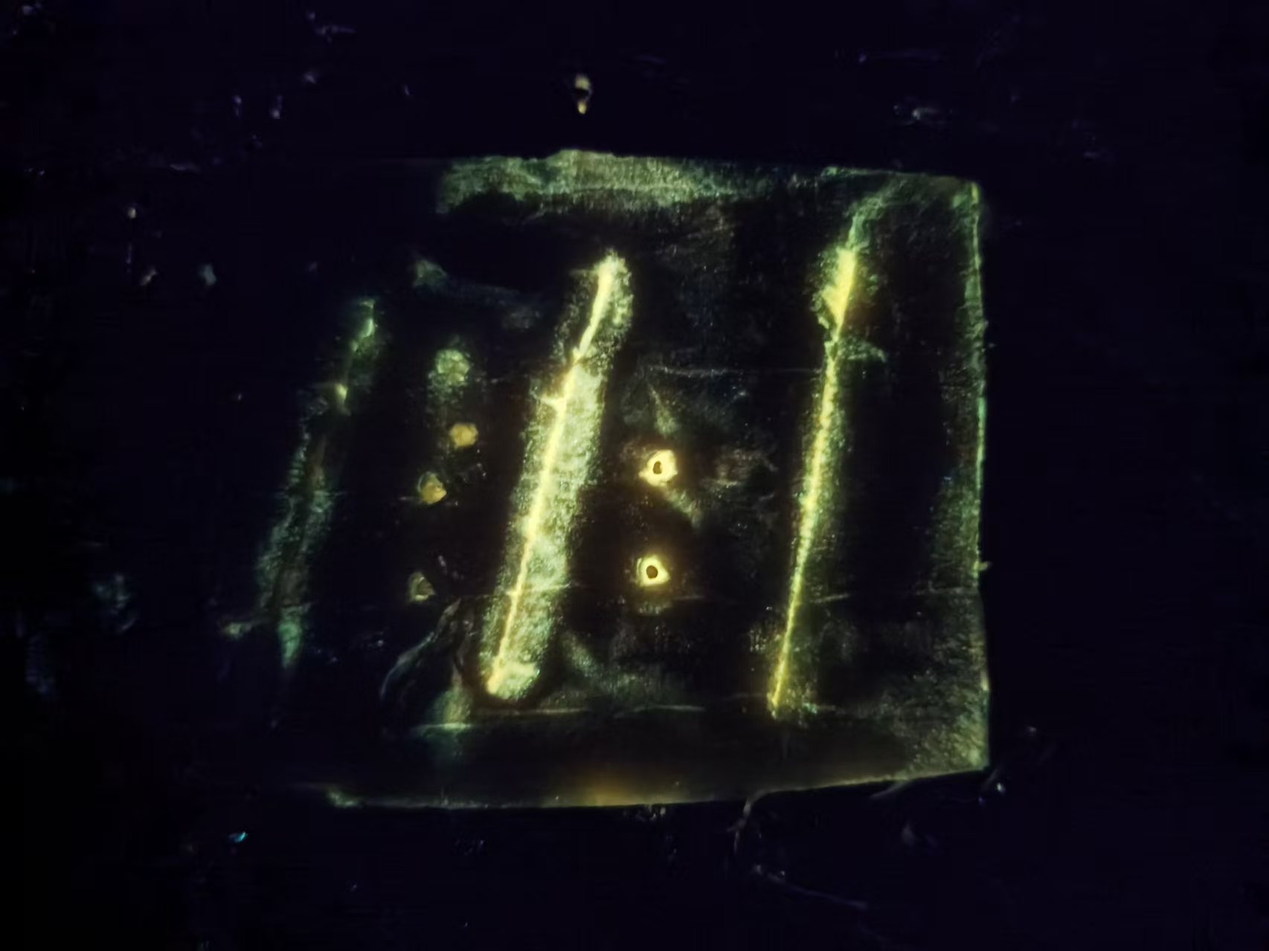Crater: (618, 438, 702, 502), (609, 545, 690, 599), (400, 462, 464, 523), (439, 410, 491, 467)
Fissure: (454, 238, 653, 710), (739, 192, 906, 723)
